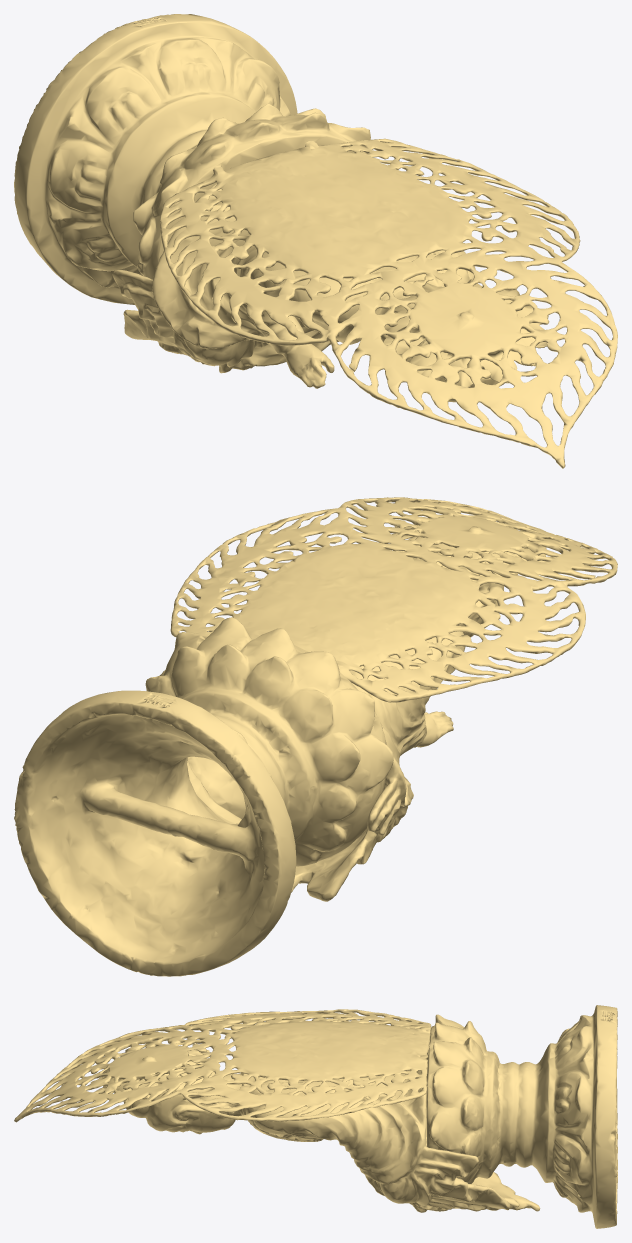
File: buddha-gold.glb
The picture shows the model from 3 angles, top to bottom: view 1: azimuth 30°, elevation 25°; view 2: azimuth 150°, elevation 25°; view 3: azimuth 270°, elevation 25°; orthographic projection. The views are drawn at different scales.
Parts seen in each view (by area): view 1: seated_buddha; view 2: seated_buddha; view 3: seated_buddha.
Part boxes in pixels (x1,y1,x2,y2): seated_buddha: (14, 14, 617, 468); seated_buddha: (14, 497, 617, 976); seated_buddha: (14, 1005, 617, 1228).
Size of the model in its own units: 57.94 by 44.13 by 121.
